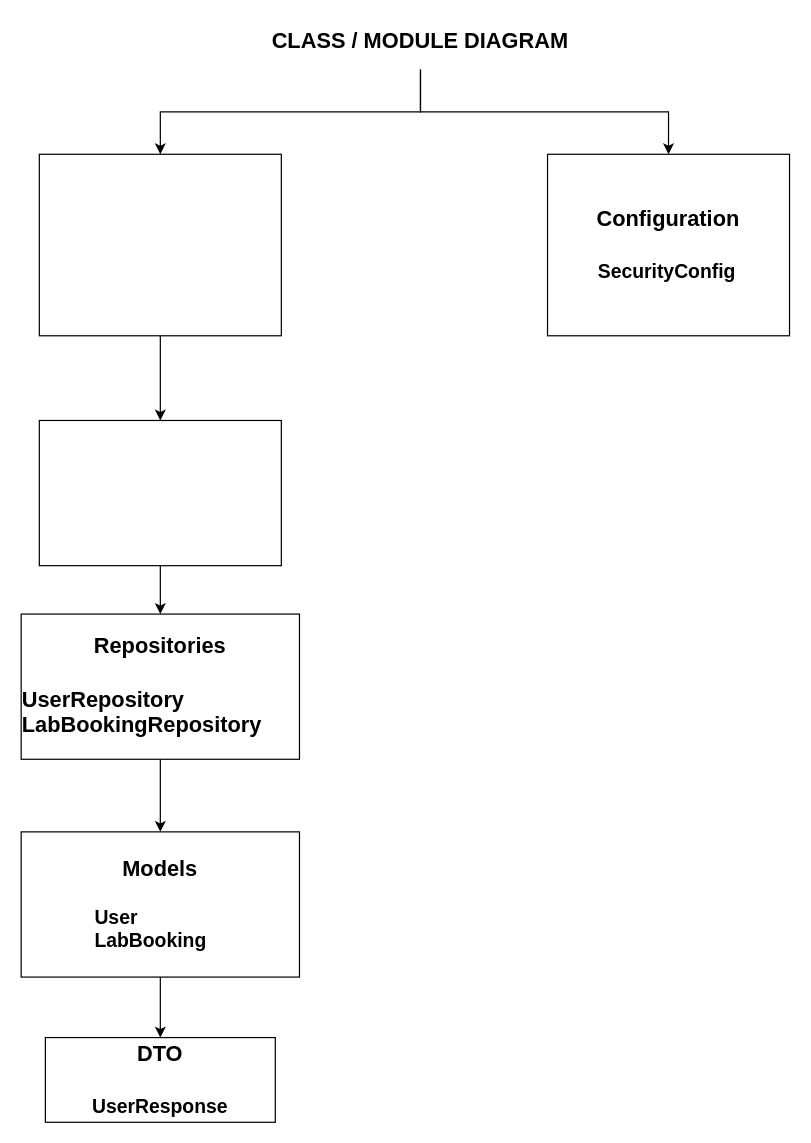
Image size: 811x1143. Some labels were removed from this diagram. Each missing label, with the box of its shape:
Controller UserController AdminController BookingController: (38, 153, 281, 336)
Services UserService LabBookingService: (38, 419, 281, 566)
